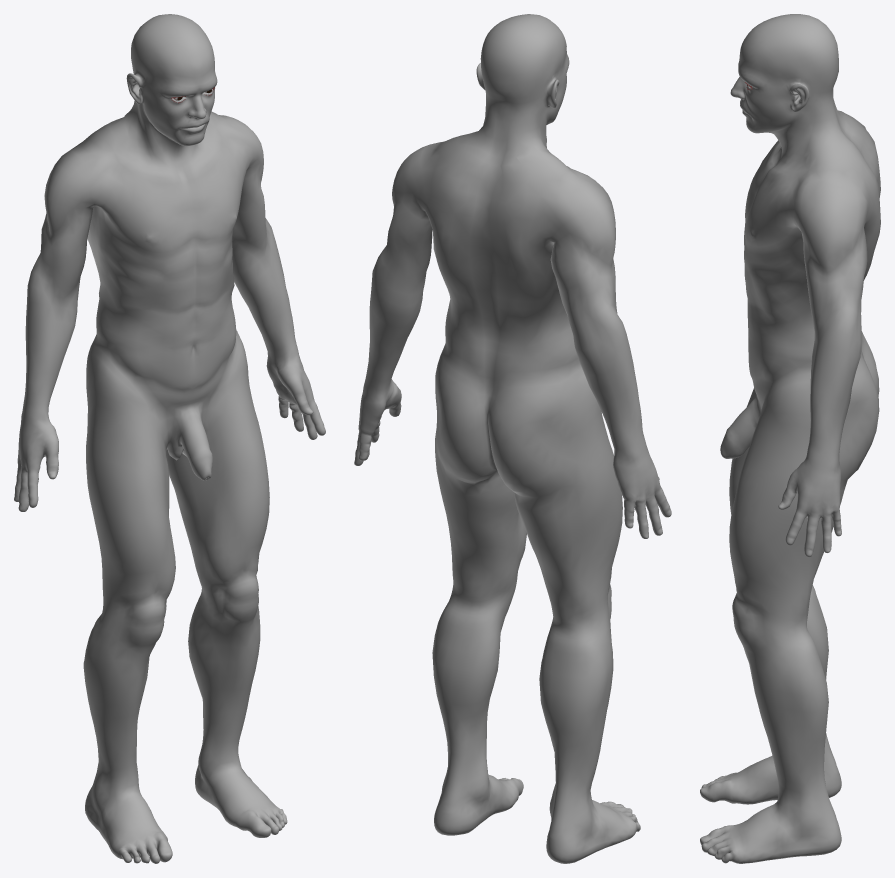
Rendered from A Male_Intergumentary_System.fbx.
The picture shows the model from 3 angles, left to right: view 1: azimuth 30°, elevation 25°; view 2: azimuth 150°, elevation 25°; view 3: azimuth 270°, elevation 25°; orthographic projection. The views are drawn at different scales.
Parts seen in each view (by area): view 1: Male_Intergumentary_System_Body; view 2: Male_Intergumentary_System_Body; view 3: Male_Intergumentary_System_Body.
Boxes of the visible parts, left/top/right/bottom form: Male_Intergumentary_System_Body: left=14, top=14, right=325, bottom=863; Male_Intergumentary_System_Body: left=354, top=14, right=671, bottom=863; Male_Intergumentary_System_Body: left=700, top=14, right=880, bottom=863.
Size of the model in its own units: 71.91 by 185 by 37.61.
3 materials, 1 textured.
